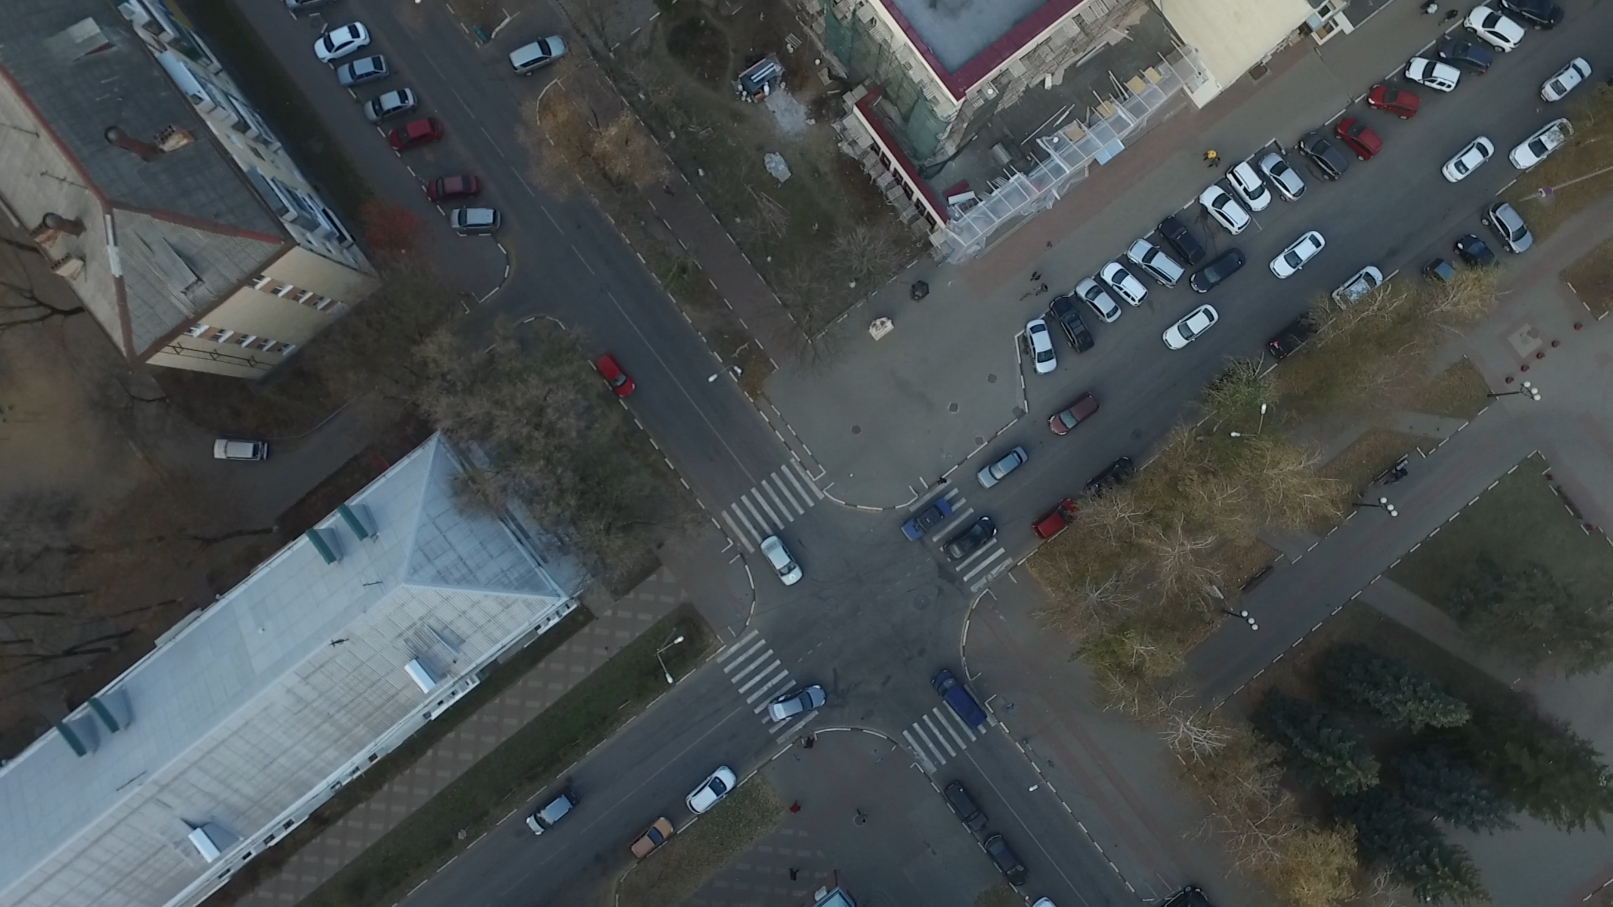car: (929, 668, 989, 729), (1507, 114, 1574, 165), (1126, 237, 1185, 291), (1265, 228, 1327, 277), (1467, 4, 1524, 56), (1539, 53, 1593, 107), (1189, 244, 1249, 292), (1198, 185, 1253, 236), (1155, 305, 1219, 349), (504, 34, 571, 76), (1048, 293, 1095, 353), (1264, 310, 1322, 358), (1438, 135, 1498, 181), (684, 765, 740, 813), (522, 789, 581, 834), (1482, 199, 1532, 252), (1258, 152, 1307, 205), (1083, 456, 1140, 502), (1072, 274, 1122, 324), (987, 833, 1030, 891), (970, 449, 1030, 491), (1046, 392, 1101, 437), (1100, 258, 1149, 309), (945, 779, 992, 832), (1299, 132, 1346, 185), (943, 517, 998, 561), (1451, 233, 1501, 281), (314, 19, 374, 59), (1328, 262, 1386, 305), (1157, 215, 1209, 261), (770, 682, 829, 723), (900, 499, 956, 542), (1224, 162, 1273, 210), (760, 534, 805, 585), (1030, 497, 1083, 540), (1335, 113, 1383, 161), (1437, 35, 1488, 80), (627, 815, 675, 860), (1405, 54, 1456, 96), (594, 350, 638, 396), (1020, 318, 1055, 375), (1369, 82, 1419, 121), (386, 114, 443, 147), (366, 85, 420, 118), (1424, 259, 1467, 299), (1499, 1, 1561, 29), (331, 56, 388, 86), (215, 434, 269, 461), (429, 174, 482, 200), (451, 205, 503, 231)
